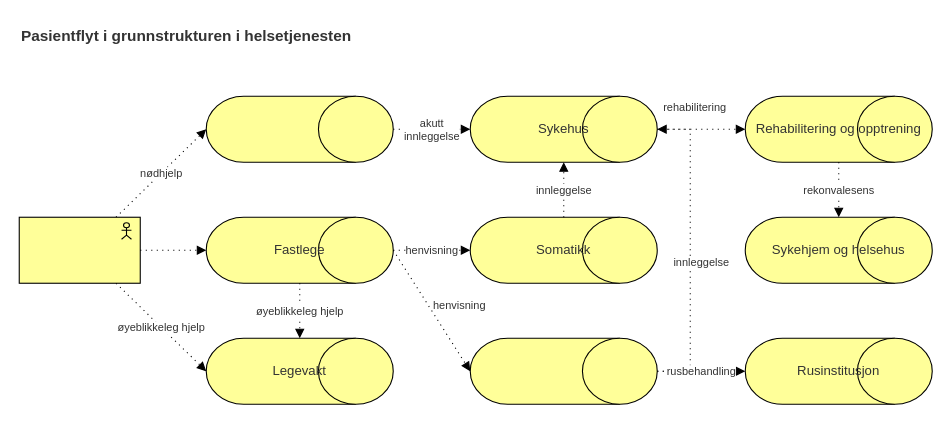
This 952x424 diagram has some shape labels left out. The box of each missing label's shape, as (x1, y1, x2, y2) in pixels:
Ambulanse: (205, 95, 393, 162)
Pasient: (18, 216, 140, 283)
Psykiatri: (469, 337, 657, 404)
